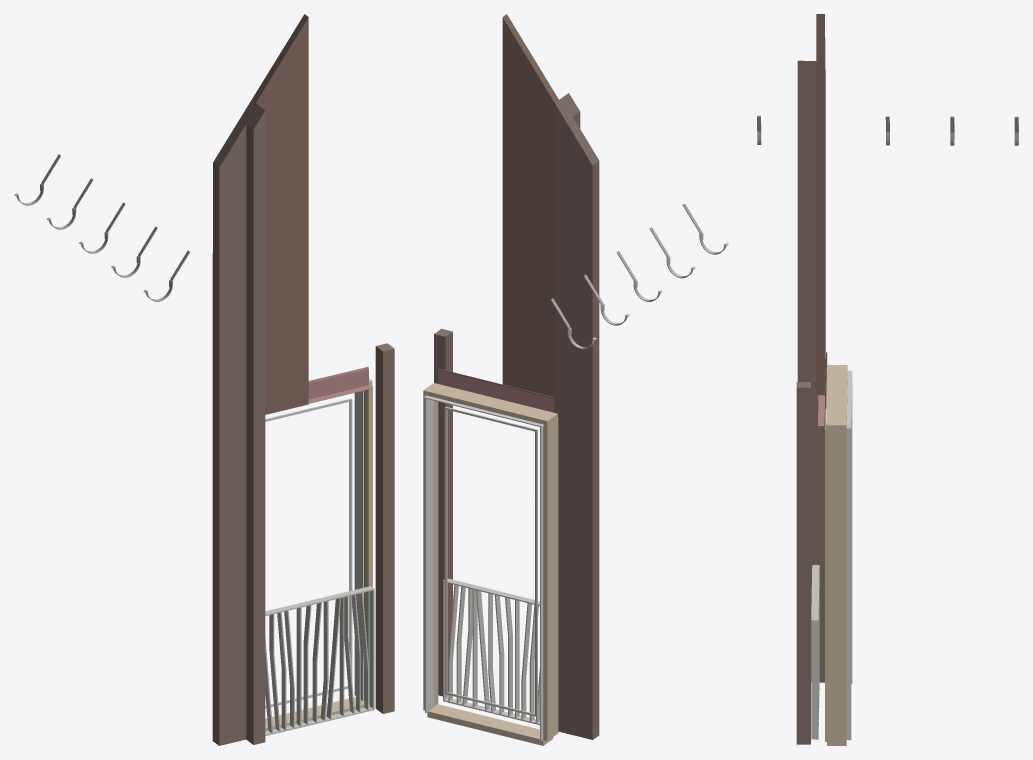
3 renders of one model, left to right at view 1: azimuth 30°, elevation 25°; view 2: azimuth 150°, elevation 25°; view 3: azimuth 270°, elevation 25°, orthographic.
Bounding box in the file's own units: 2.33 × 5.88 × 1.99.
